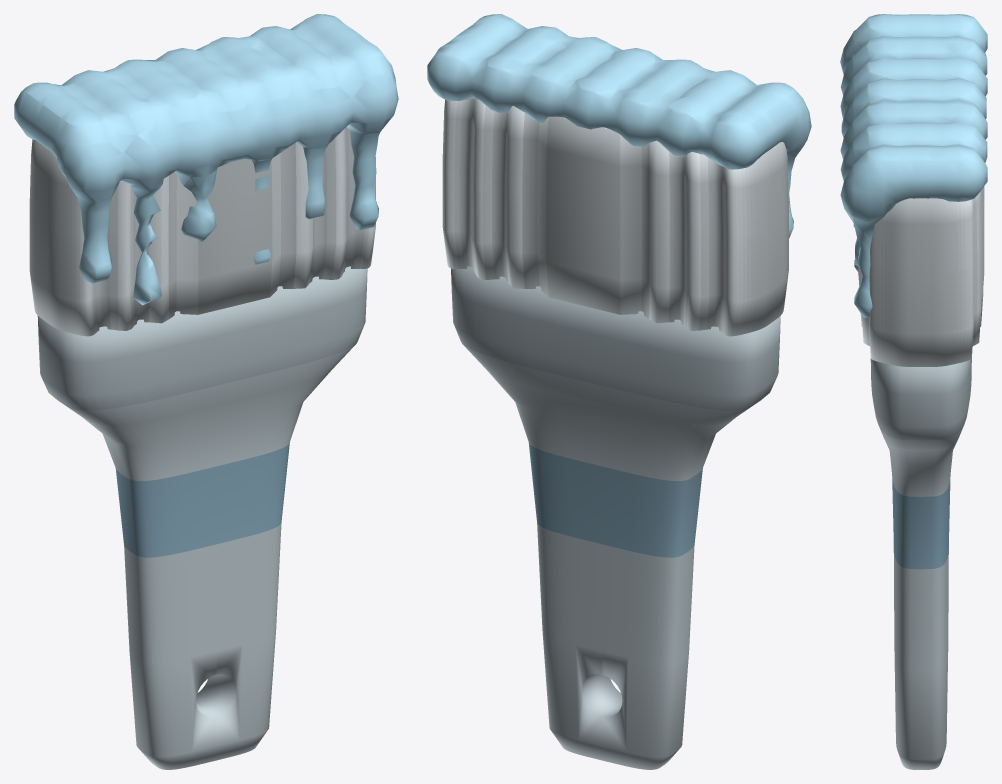
File: Paintbrush_Yeti.glb
3 views of the same model, side by side, from view 1: azimuth 30°, elevation 25°; view 2: azimuth 150°, elevation 25°; view 3: azimuth 270°, elevation 25° (orthographic). The views are drawn at different scales.
Parts seen in each view (by area): view 1: Body, Paint, Bristles; view 2: Body, Bristles, Paint; view 3: Paint, Body, Bristles.
Part boxes in pixels (<box>): Body: <box>37,266,367,769</box>; Paint: <box>14,14,398,305</box>; Bristles: <box>29,127,375,336</box>; Body: <box>451,266,780,769</box>; Bristles: <box>442,98,788,336</box>; Paint: <box>427,14,811,238</box>; Paint: <box>840,14,987,318</box>; Body: <box>870,358,971,769</box>; Bristles: <box>858,186,984,366</box>.
Bounding box in the file's own units: 1.23 × 2.44 × 0.4919.
